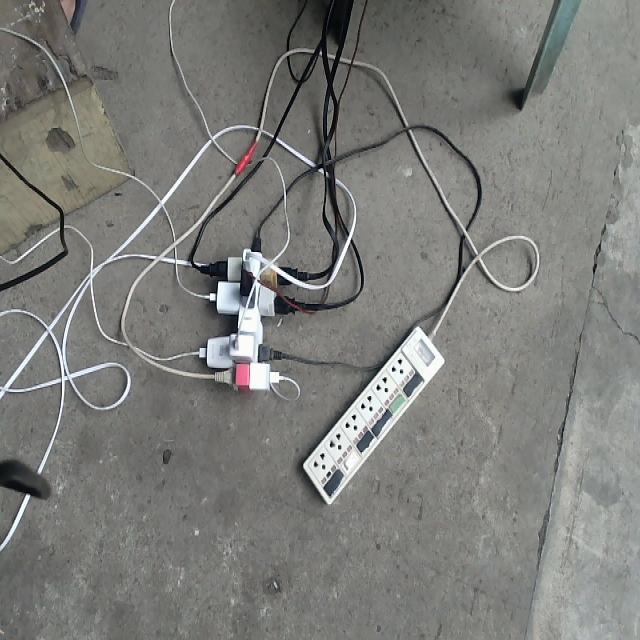-: (200, 239, 290, 392)
